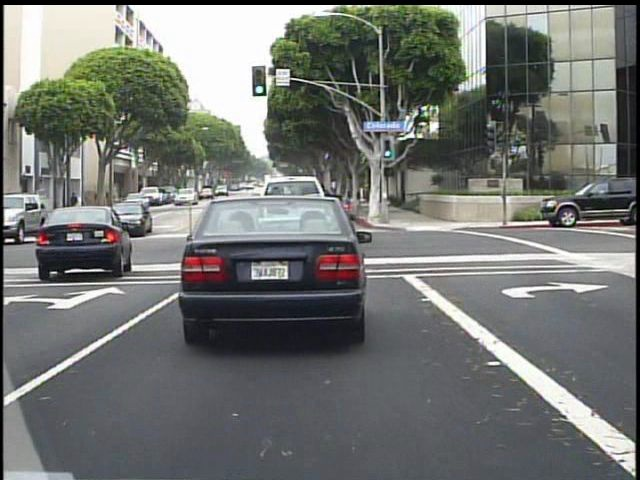person: (67, 189, 84, 221)
